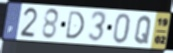0: (111, 12, 132, 45)
2: (19, 6, 40, 39)
3: (87, 10, 108, 44)
8: (40, 8, 60, 41)
D: (64, 10, 86, 41)
Q: (133, 15, 153, 45)
